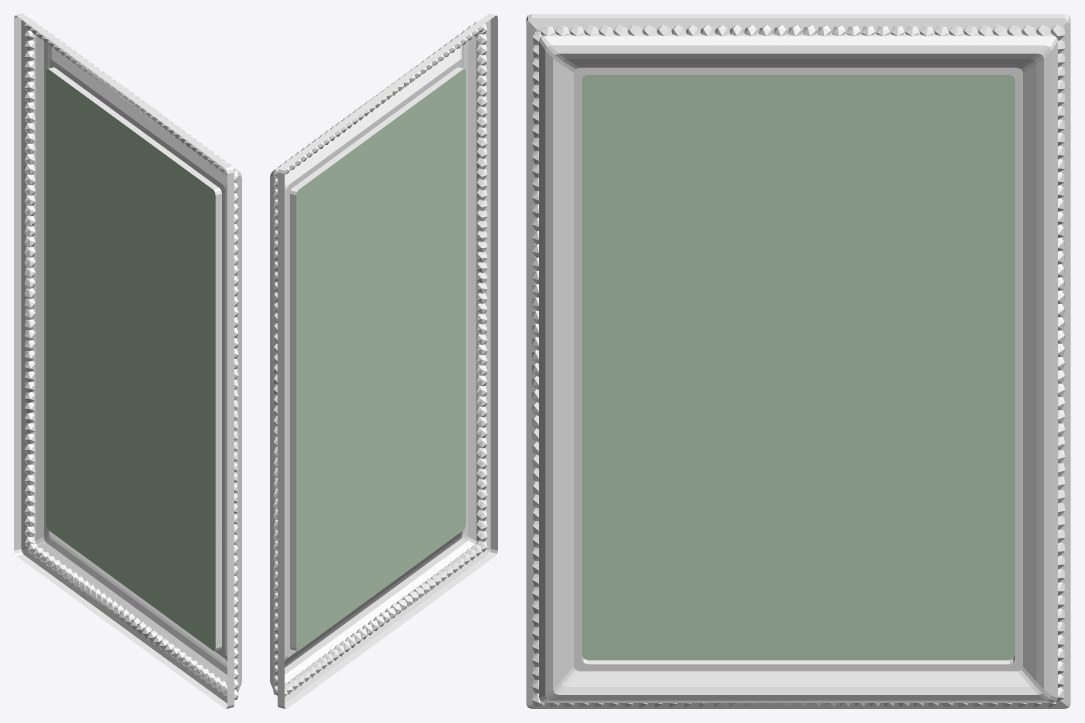
File: Spiegel eckig.glb
3 views of the same model, side by side, from view 1: azimuth 30°, elevation 25°; view 2: azimuth 150°, elevation 25°; view 3: azimuth 270°, elevation 25° (orthographic). The views are drawn at different scales.
Visible parts, largest first — view 1: Mirror Eckig; view 2: Mirror Eckig; view 3: Mirror Eckig.
Boxes of the visible parts, x1=… form: Mirror Eckig: x1=14, y1=14, x2=241, y2=708; Mirror Eckig: x1=270, y1=14, x2=497, y2=708; Mirror Eckig: x1=526, y1=14, x2=1070, y2=708.
Size of the model in its own units: 0.1429 by 3.07 by 2.19.
